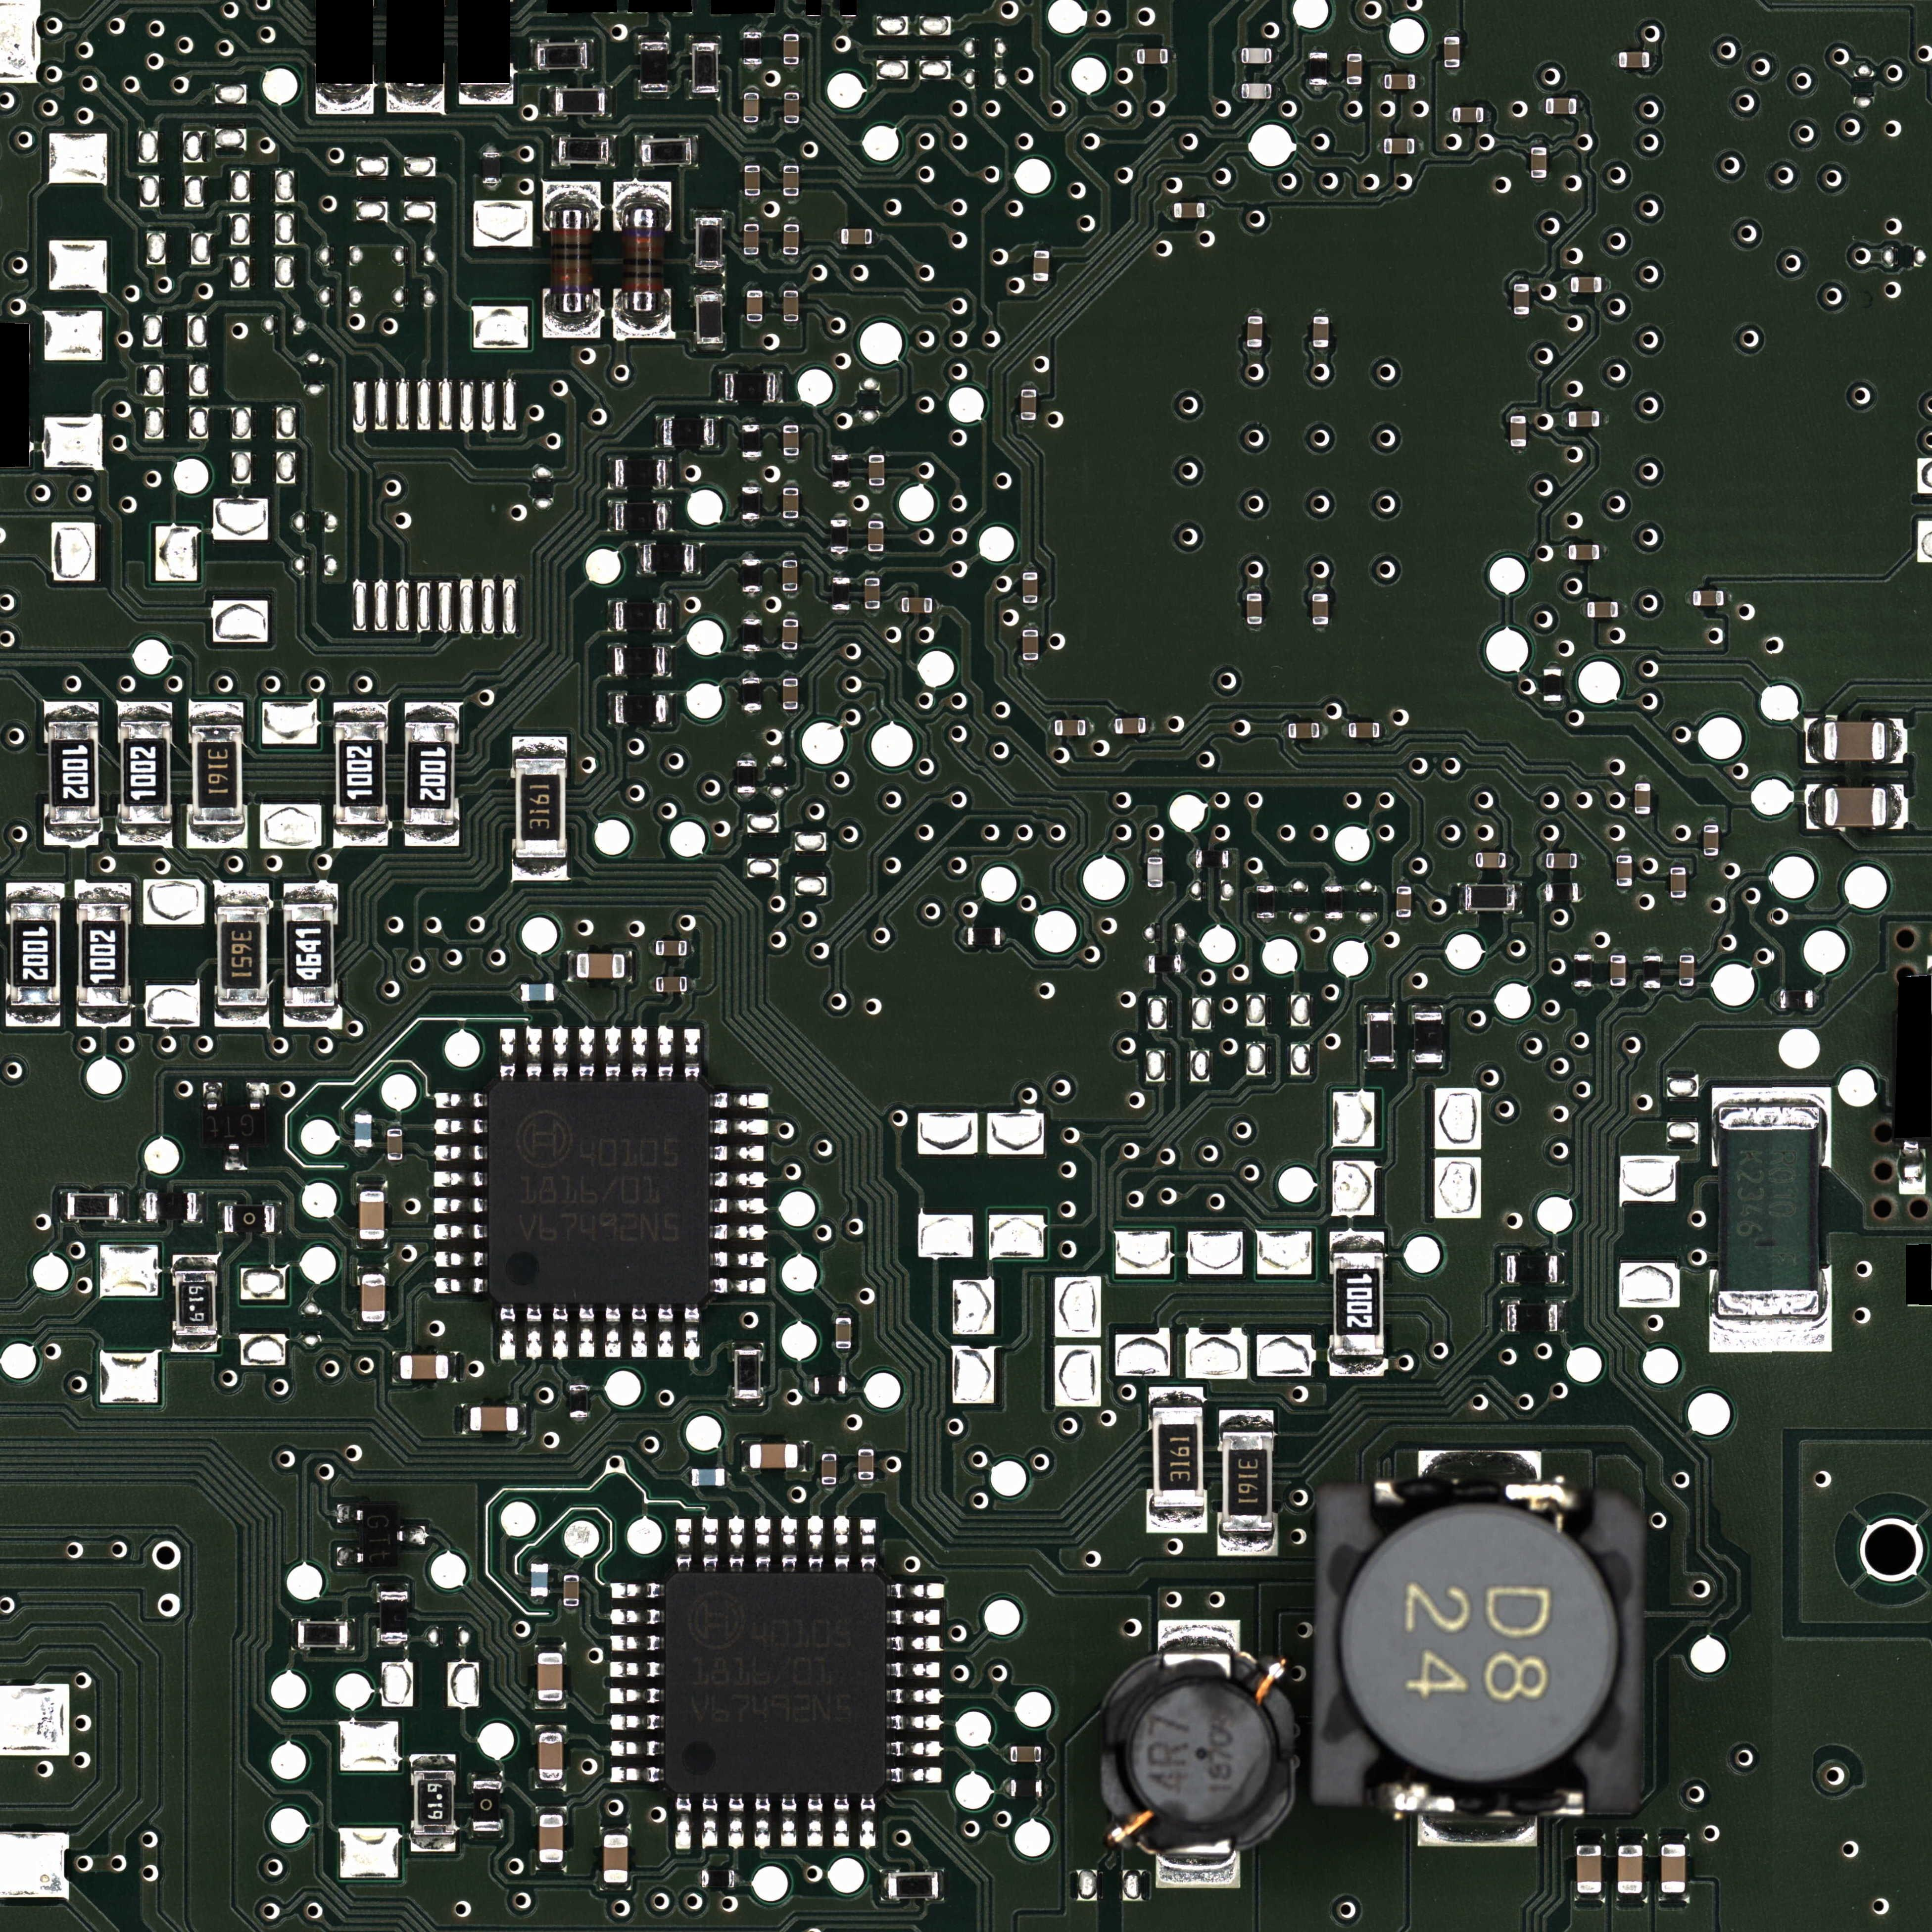Package: (1311, 1484, 1644, 1813), (488, 1081, 709, 1304), (665, 1573, 886, 1794), (1100, 1654, 1295, 1854), (1718, 1109, 1819, 1315), (405, 724, 458, 824), (48, 722, 99, 824), (9, 904, 60, 1005), (334, 724, 386, 824), (1332, 1254, 1384, 1355), (120, 724, 172, 823), (285, 906, 336, 1005), (78, 906, 129, 1005), (515, 761, 566, 856), (218, 908, 267, 1005), (193, 727, 242, 824), (1223, 1433, 1272, 1530), (1152, 1408, 1201, 1506), (550, 207, 593, 313), (623, 205, 663, 313), (175, 1270, 216, 1336), (414, 1771, 455, 1835), (202, 1108, 265, 1143), (1826, 787, 1886, 824), (1824, 722, 1884, 759), (363, 1504, 396, 1568), (379, 1592, 409, 1640), (663, 418, 713, 446), (616, 458, 665, 487), (616, 602, 665, 630), (616, 502, 665, 531), (147, 1192, 196, 1221), (225, 1205, 274, 1233), (1507, 1254, 1557, 1283), (616, 648, 663, 676), (725, 373, 773, 402), (644, 545, 694, 571), (616, 695, 665, 722), (1415, 1012, 1442, 1062), (640, 42, 667, 90), (474, 1782, 501, 1829), (1467, 885, 1514, 911), (1509, 1304, 1557, 1330), (697, 294, 722, 343), (556, 88, 605, 113), (538, 44, 587, 69), (67, 1194, 117, 1219), (888, 1874, 938, 1898), (642, 140, 690, 165), (559, 138, 607, 163), (400, 1355, 448, 1380), (471, 1407, 518, 1431), (538, 1652, 563, 1700), (736, 1350, 761, 1398), (299, 1622, 347, 1647), (603, 1835, 628, 1882), (361, 1274, 386, 1322), (1576, 1845, 1601, 1893), (1661, 1844, 1686, 1891), (1617, 1845, 1642, 1893), (1368, 1014, 1392, 1062), (697, 218, 720, 267), (694, 42, 717, 92), (359, 1192, 384, 1238), (750, 1444, 796, 1468), (577, 954, 623, 978), (540, 1815, 563, 1861), (540, 1734, 563, 1778), (830, 518, 849, 552), (968, 927, 1001, 947), (1543, 667, 1562, 701), (741, 487, 761, 518), (736, 761, 755, 793), (741, 425, 761, 456), (741, 678, 761, 709), (741, 559, 761, 591), (741, 619, 761, 651), (481, 152, 501, 184), (570, 1385, 589, 1417), (1307, 53, 1327, 85), (1323, 886, 1343, 918), (1573, 955, 1592, 987), (1148, 954, 1180, 973), (1780, 991, 1813, 1008), (832, 455, 849, 487), (832, 577, 849, 609), (743, 32, 761, 64), (692, 1468, 724, 1486), (531, 1564, 548, 1596), (522, 984, 554, 1001), (354, 1115, 372, 1146), (702, 1870, 734, 1888), (1196, 849, 1228, 867), (1546, 883, 1578, 901), (1311, 593, 1329, 625), (1256, 886, 1274, 918), (1644, 955, 1661, 987), (1010, 1780, 1042, 1798), (563, 1575, 580, 1605), (814, 1376, 844, 1394), (1509, 416, 1527, 446), (1246, 593, 1263, 623), (1615, 855, 1633, 885), (1146, 856, 1164, 886), (1054, 718, 1085, 736), (747, 290, 763, 320), (743, 92, 759, 122), (784, 34, 800, 64), (743, 225, 759, 255), (656, 939, 686, 955), (784, 92, 800, 122), (784, 290, 800, 320), (745, 165, 761, 195), (782, 619, 798, 649), (835, 1318, 851, 1348), (656, 977, 686, 993), (858, 1449, 874, 1479), (1033, 251, 1049, 281), (1530, 147, 1546, 177), (1444, 37, 1460, 67), (1619, 51, 1649, 67), (1350, 722, 1380, 738), (1514, 283, 1530, 313), (1175, 202, 1205, 218), (1546, 97, 1576, 113), (1635, 784, 1651, 814), (1571, 276, 1601, 292), (1023, 630, 1039, 660), (1546, 853, 1576, 869), (1247, 317, 1263, 347), (1288, 722, 1318, 738), (1670, 867, 1686, 897), (1569, 543, 1599, 559), (1396, 886, 1412, 916), (1569, 410, 1599, 426), (1587, 602, 1617, 617), (1313, 317, 1329, 347), (1021, 389, 1037, 419), (1023, 571, 1039, 602), (1610, 955, 1626, 985), (1679, 955, 1695, 985), (869, 456, 885, 485), (782, 679, 798, 708), (782, 561, 798, 589), (842, 228, 870, 244), (784, 225, 800, 253), (784, 426, 800, 455), (784, 166, 800, 195), (821, 1454, 837, 1483), (1385, 138, 1414, 154), (1454, 106, 1483, 122), (1242, 83, 1270, 99), (1346, 55, 1362, 83), (1704, 826, 1720, 855), (1242, 48, 1270, 64), (1012, 1746, 1040, 1762), (865, 579, 879, 609), (387, 1129, 402, 1159), (1693, 591, 1723, 605), (1115, 718, 1145, 732), (1138, 50, 1168, 64), (869, 522, 883, 550), (784, 488, 798, 517), (902, 598, 931, 612), (1477, 853, 1506, 867), (1385, 74, 1414, 88)
Solder: (1417, 1451, 1541, 1484), (1417, 1813, 1539, 1847), (1711, 1318, 1831, 1352), (1709, 1086, 1829, 1113), (1155, 1854, 1240, 1890), (1159, 1619, 1238, 1651), (315, 87, 373, 115), (386, 87, 446, 113), (1897, 1141, 1927, 1194), (614, 313, 672, 340), (1217, 1532, 1277, 1557), (543, 313, 600, 338), (1146, 1509, 1207, 1532), (188, 826, 246, 849), (543, 182, 602, 205), (614, 182, 671, 205), (513, 858, 568, 881), (216, 883, 269, 906), (44, 824, 99, 846), (76, 881, 131, 902), (117, 826, 172, 847), (214, 1007, 269, 1028), (1219, 1410, 1274, 1431), (1330, 1231, 1385, 1253), (458, 85, 513, 106), (283, 1008, 341, 1028), (1329, 1357, 1387, 1376), (189, 701, 242, 722), (513, 736, 566, 757), (7, 883, 64, 902), (5, 1007, 60, 1026), (888, 1713, 943, 1732), (888, 1739, 943, 1759), (334, 826, 387, 846), (334, 701, 387, 720), (285, 883, 338, 902), (44, 701, 97, 720), (119, 701, 172, 720), (405, 701, 458, 720), (405, 826, 458, 846), (1150, 1387, 1203, 1407), (499, 1306, 517, 1362), (76, 1008, 131, 1026), (713, 1092, 768, 1109), (713, 1118, 768, 1136), (701, 1516, 718, 1571), (780, 1516, 798, 1571), (807, 1516, 824, 1571), (754, 1516, 771, 1571), (833, 1516, 851, 1571), (676, 1796, 694, 1851), (888, 1582, 943, 1599), (603, 1026, 621, 1079), (552, 1307, 570, 1361), (579, 1306, 596, 1359), (656, 1306, 674, 1359), (579, 1026, 596, 1079), (656, 1026, 674, 1079), (701, 1798, 718, 1851), (858, 1518, 876, 1571), (727, 1516, 745, 1569), (754, 1798, 771, 1851), (727, 1798, 745, 1851), (888, 1766, 941, 1783), (888, 1688, 941, 1706), (433, 1118, 485, 1136), (433, 1145, 485, 1162), (433, 1196, 485, 1214), (433, 1223, 485, 1240), (433, 1092, 485, 1109), (433, 1169, 485, 1187), (433, 1251, 485, 1269), (683, 1028, 701, 1079), (713, 1145, 764, 1162), (715, 1251, 766, 1269), (713, 1277, 764, 1295), (603, 1307, 621, 1359), (630, 1307, 648, 1359), (609, 1688, 660, 1706), (610, 1766, 662, 1783), (780, 1798, 798, 1849), (858, 1798, 876, 1849), (610, 1739, 662, 1757), (610, 1661, 662, 1679), (888, 1635, 939, 1652), (888, 1661, 939, 1679), (610, 1713, 662, 1730), (807, 1798, 824, 1849), (610, 1635, 662, 1652), (888, 1608, 939, 1626), (1888, 784, 1907, 830), (610, 1608, 660, 1626), (610, 1582, 660, 1599), (683, 1306, 699, 1361), (1888, 718, 1907, 763), (525, 1026, 541, 1079), (632, 1026, 648, 1079), (525, 1307, 541, 1361), (552, 1026, 568, 1079), (715, 1224, 768, 1240), (676, 1518, 692, 1571), (715, 1171, 766, 1187), (501, 1028, 517, 1079), (715, 1198, 766, 1214), (833, 1798, 849, 1849), (172, 1336, 218, 1353), (1805, 718, 1822, 764), (1805, 784, 1822, 830), (435, 1277, 485, 1293), (172, 1254, 218, 1270), (410, 1753, 456, 1769), (410, 1836, 455, 1852), (246, 1081, 267, 1109), (203, 1081, 223, 1111), (225, 1145, 246, 1171), (336, 1546, 363, 1568), (398, 1525, 426, 1545), (336, 1504, 361, 1523), (1364, 1001, 1396, 1012), (1615, 1893, 1647, 1904), (1617, 1835, 1647, 1845), (448, 1353, 458, 1382), (356, 1240, 389, 1249), (356, 1322, 389, 1330), (639, 92, 671, 101), (518, 1403, 527, 1435), (534, 1780, 566, 1789), (534, 1863, 566, 1872), (534, 1700, 566, 1709), (1412, 1003, 1444, 1012), (1499, 1300, 1507, 1332), (1499, 1253, 1507, 1284), (1658, 1835, 1690, 1844), (1573, 1893, 1605, 1902), (1658, 1893, 1690, 1902), (460, 1405, 469, 1435), (357, 1265, 387, 1274), (391, 1352, 400, 1382), (472, 1831, 502, 1840), (639, 32, 669, 41), (690, 34, 720, 42), (550, 136, 559, 166), (536, 1805, 566, 1813), (741, 1440, 750, 1470), (600, 1882, 630, 1891), (600, 1826, 630, 1835), (879, 1870, 888, 1900), (1514, 883, 1523, 913), (1575, 1835, 1605, 1844), (357, 1182, 386, 1191), (58, 1192, 67, 1221), (568, 952, 577, 980), (536, 1644, 564, 1652), (798, 1442, 807, 1470), (1456, 885, 1465, 911), (196, 1191, 203, 1223), (274, 1203, 281, 1235), (138, 1191, 145, 1223), (290, 1619, 297, 1651), (377, 1583, 409, 1591), (377, 1642, 409, 1649), (547, 85, 554, 117), (694, 209, 725, 216), (529, 39, 536, 71), (609, 134, 616, 166), (656, 416, 663, 448), (587, 39, 594, 71), (775, 372, 782, 403), (694, 267, 725, 274), (609, 600, 616, 632), (731, 1399, 763, 1407), (957, 925, 968, 947), (1364, 1063, 1396, 1070), (1412, 1063, 1444, 1070), (1559, 1300, 1566, 1332), (1559, 1253, 1566, 1284), (218, 1203, 225, 1233), (472, 1773, 502, 1780), (605, 87, 612, 117), (694, 287, 724, 294), (692, 136, 699, 166), (690, 94, 720, 101), (694, 345, 724, 352), (732, 1343, 763, 1350), (536, 1725, 566, 1732), (119, 1192, 126, 1221), (625, 952, 632, 980), (609, 692, 614, 725), (609, 499, 614, 533), (665, 600, 671, 633), (349, 1619, 354, 1651), (635, 134, 640, 166), (715, 418, 720, 449), (665, 458, 671, 490), (609, 644, 614, 676), (637, 543, 642, 575), (667, 646, 672, 678), (667, 694, 672, 725), (665, 501, 671, 533), (695, 543, 701, 575), (1541, 701, 1564, 708), (718, 372, 724, 402), (609, 458, 614, 488), (939, 1870, 945, 1900), (1042, 1780, 1051, 1798), (1307, 85, 1329, 92), (1254, 918, 1276, 925), (481, 184, 501, 191), (736, 793, 755, 800), (1311, 349, 1330, 356), (1001, 927, 1008, 947), (1576, 96, 1583, 115), (1442, 67, 1461, 74), (1813, 989, 1821, 1008), (839, 16, 858, 23), (872, 228, 879, 246), (745, 283, 763, 290), (743, 157, 761, 165), (741, 255, 759, 262), (743, 25, 761, 32), (743, 64, 761, 71), (515, 984, 522, 1001), (570, 1417, 587, 1424), (807, 1376, 814, 1394), (856, 1442, 874, 1449), (734, 1870, 741, 1888), (856, 1479, 874, 1486), (531, 1596, 548, 1603), (1033, 242, 1051, 249), (1415, 73, 1422, 90), (1168, 48, 1175, 65), (1207, 202, 1214, 219), (1313, 310, 1330, 317), (1246, 347, 1263, 354), (1187, 849, 1194, 867), (1230, 849, 1237, 867), (1145, 717, 1152, 734), (1318, 722, 1325, 740), (1021, 623, 1039, 630), (1246, 623, 1263, 630), (1085, 718, 1092, 736), (1146, 886, 1164, 893), (1281, 722, 1288, 740), (1180, 955, 1187, 973), (1003, 1780, 1010, 1798), (1539, 97, 1546, 115), (1483, 106, 1490, 124), (1649, 51, 1656, 69), (1601, 410, 1608, 428), (1601, 276, 1608, 294), (1509, 448, 1527, 455), (1562, 410, 1569, 428), (1513, 276, 1530, 283), (1564, 276, 1571, 294), (1530, 138, 1548, 145), (1578, 883, 1585, 901), (1537, 883, 1545, 901), (1686, 589, 1693, 607), (1468, 851, 1476, 869), (1617, 600, 1624, 617), (1615, 847, 1633, 855), (1608, 948, 1626, 955), (1615, 886, 1633, 893), (1670, 860, 1688, 867), (1723, 589, 1730, 607), (833, 487, 849, 494), (869, 448, 885, 455), (784, 255, 800, 262), (784, 157, 800, 165), (833, 228, 840, 244), (745, 456, 761, 464), (784, 85, 800, 92), (784, 456, 800, 464), (784, 196, 800, 203), (743, 651, 759, 658), (782, 554, 798, 561), (531, 1557, 547, 1564), (821, 1447, 837, 1454), (1376, 138, 1384, 154), (1235, 83, 1242, 99), (1272, 83, 1279, 99), (1247, 310, 1263, 317), (1415, 138, 1422, 154), (1346, 46, 1362, 53), (1131, 48, 1138, 64), (1343, 722, 1350, 738), (1146, 849, 1162, 856), (1396, 916, 1412, 924), (1141, 957, 1148, 973), (1040, 1746, 1047, 1762), (1444, 30, 1460, 37), (1539, 853, 1546, 869), (1576, 853, 1583, 869), (1560, 543, 1568, 559), (1644, 948, 1660, 955), (1702, 817, 1718, 824), (1580, 602, 1587, 617), (1773, 991, 1780, 1007), (1021, 660, 1040, 665), (1509, 409, 1529, 414), (1633, 814, 1652, 819), (1668, 899, 1688, 904), (356, 1108, 370, 1115), (784, 27, 798, 34), (784, 283, 798, 290), (745, 216, 759, 223), (833, 448, 847, 455), (869, 513, 883, 520), (745, 591, 759, 598), (784, 518, 798, 525), (782, 649, 796, 656), (745, 479, 759, 487), (745, 709, 759, 717), (832, 552, 846, 559), (784, 591, 798, 598), (865, 609, 879, 616), (554, 985, 561, 1000), (837, 1348, 851, 1355), (685, 1470, 692, 1484), (1679, 985, 1693, 993), (483, 145, 501, 150), (741, 124, 759, 129), (846, 1376, 851, 1394), (695, 1870, 701, 1888), (1019, 421, 1037, 426), (1031, 281, 1049, 287), (1168, 202, 1173, 219), (1325, 920, 1343, 925), (1311, 587, 1329, 593), (1325, 879, 1343, 885), (1049, 718, 1054, 736), (1311, 625, 1329, 630), (1530, 179, 1548, 184), (1513, 315, 1530, 320), (1614, 51, 1619, 69), (1633, 777, 1651, 782), (1599, 543, 1605, 561), (1702, 856, 1720, 862), (1644, 987, 1661, 993), (1575, 987, 1592, 993), (805, 16, 823, 21), (743, 418, 755, 425), (869, 552, 881, 559), (356, 1148, 372, 1154), (747, 322, 763, 327), (743, 87, 759, 92), (784, 218, 800, 223), (784, 322, 800, 327), (784, 124, 800, 129), (784, 65, 800, 71), (649, 939, 655, 955), (738, 754, 754, 759), (833, 610, 849, 616), (897, 596, 902, 612), (686, 941, 692, 957), (782, 612, 798, 617), (571, 1378, 587, 1384), (821, 1484, 837, 1490), (563, 1606, 579, 1612), (1272, 48, 1277, 64), (1346, 85, 1362, 90), (1380, 73, 1385, 88), (1235, 48, 1240, 64), (1021, 382, 1037, 387), (1309, 46, 1325, 51), (1380, 722, 1385, 738), (1109, 718, 1115, 734), (1247, 587, 1263, 593), (1258, 879, 1274, 885), (1023, 603, 1039, 609), (1005, 1746, 1010, 1762), (1545, 663, 1560, 669), (1507, 853, 1513, 869), (1575, 948, 1591, 954), (1610, 985, 1626, 991), (387, 1123, 402, 1129), (387, 1161, 402, 1166), (784, 419, 798, 425), (784, 481, 798, 487), (743, 520, 757, 525), (745, 612, 759, 617), (743, 672, 757, 678), (743, 552, 757, 557), (784, 672, 798, 678), (865, 571, 879, 577), (832, 513, 846, 518), (932, 598, 938, 612), (784, 709, 798, 715), (833, 571, 847, 577), (649, 977, 655, 991), (686, 978, 692, 993), (837, 1313, 851, 1318), (564, 1569, 579, 1575), (725, 1470, 731, 1484), (1396, 879, 1410, 885), (1023, 566, 1037, 571), (1447, 108, 1453, 122), (1681, 948, 1695, 954), (870, 487, 883, 492)
